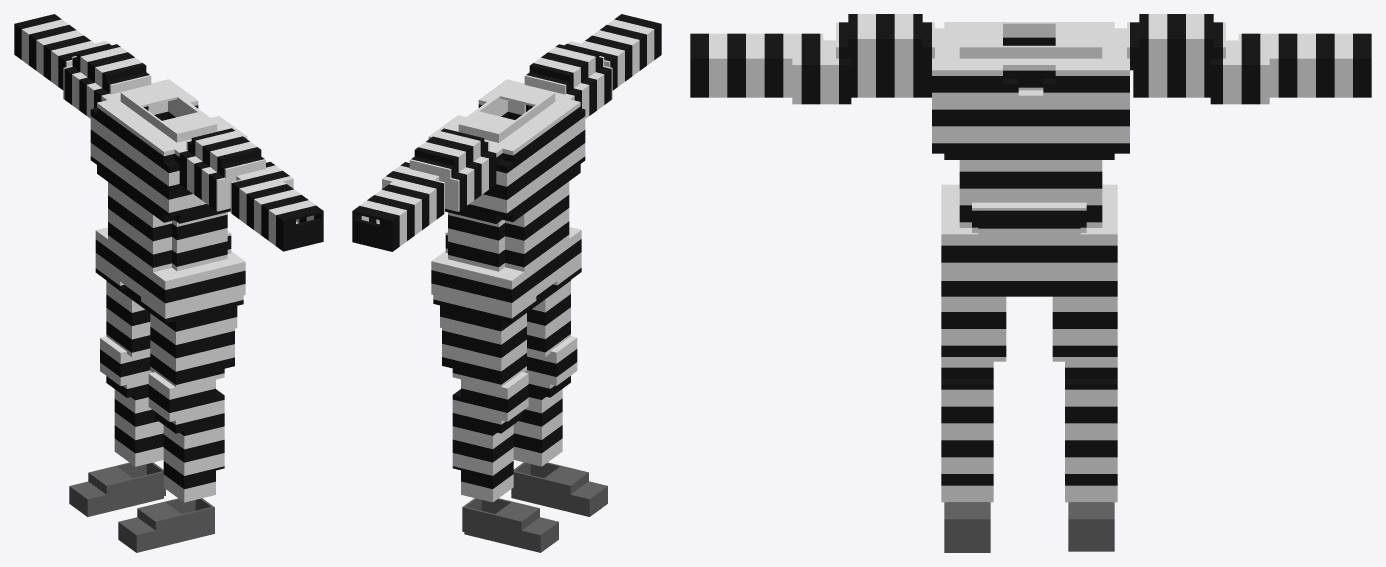
The model's file is main_char_prisoner - Kopya.obj.
The picture shows the model from 3 angles, left to right: view 1: azimuth 30°, elevation 25°; view 2: azimuth 150°, elevation 25°; view 3: azimuth 270°, elevation 25°; orthographic projection. The views are drawn at different scales.
Size of the model in its own units: 5.1 by 18.5 by 22.
1 material, 1 textured.
